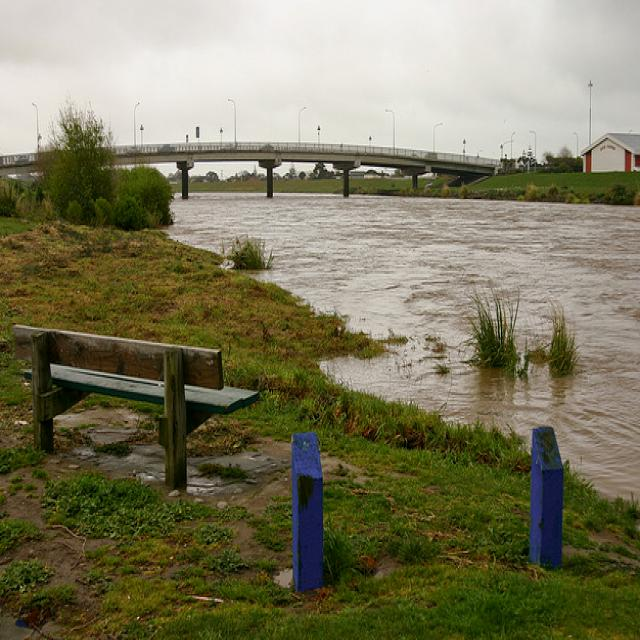Vehicle: (157, 144, 175, 152), (260, 145, 274, 150)
